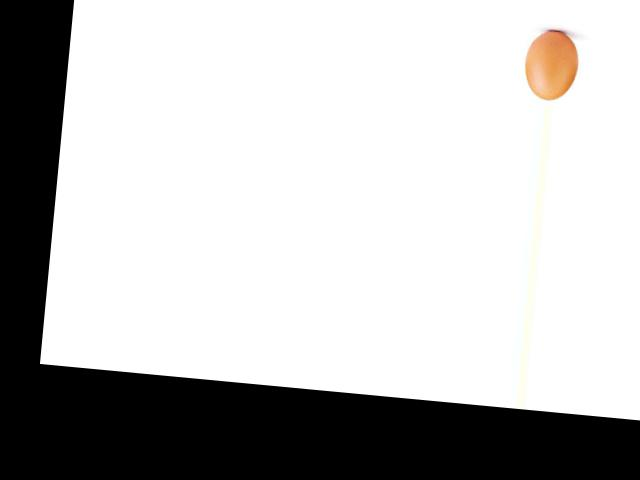egg: (523, 28, 580, 102)
